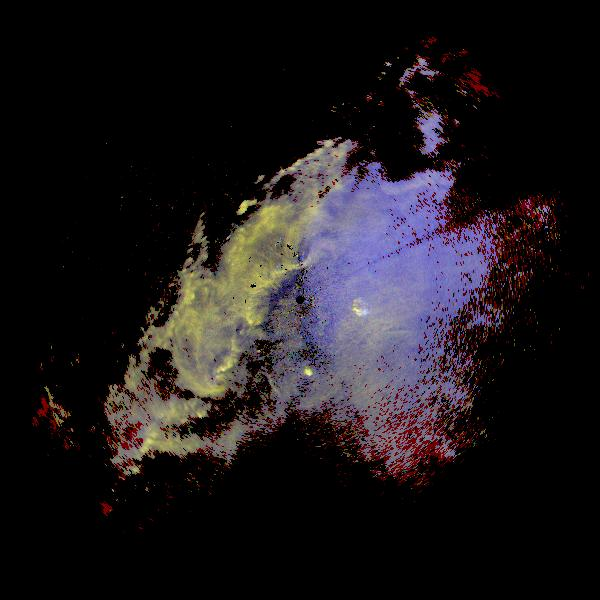roost: (344, 297, 371, 324), (300, 365, 315, 380)
